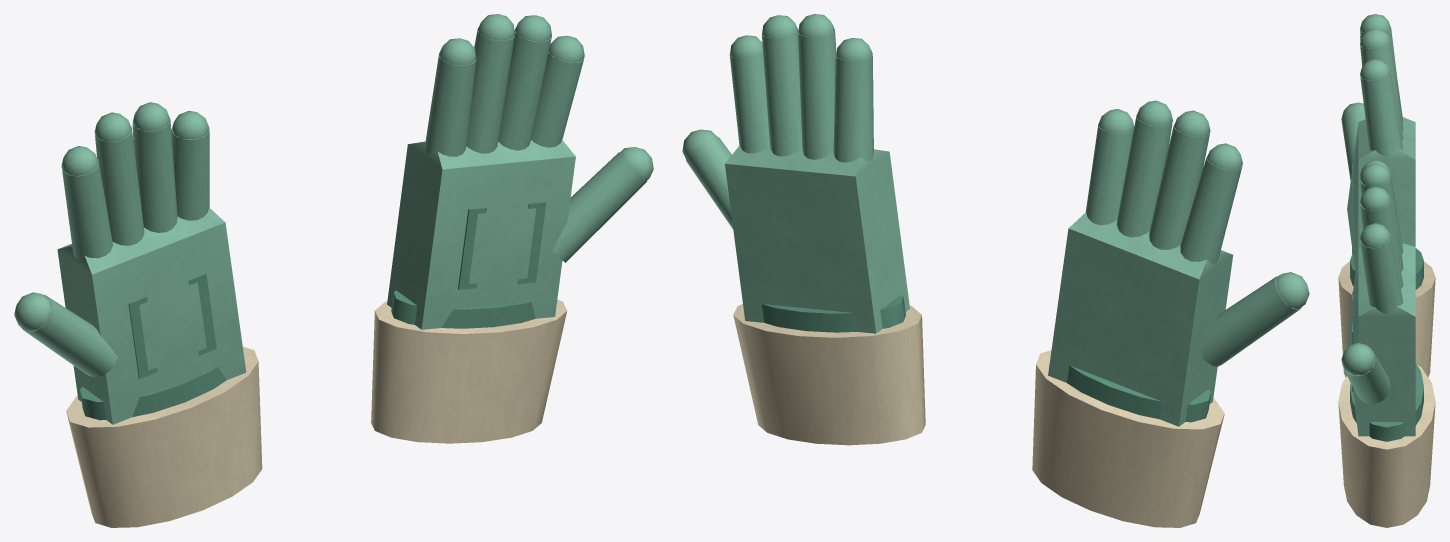
File: guantes.gltf
3 views of the same model, side by side, from view 1: azimuth 30°, elevation 25°; view 2: azimuth 150°, elevation 25°; view 3: azimuth 270°, elevation 25° (orthographic). The views are drawn at different scales.
Visible parts, largest first — view 1: guante_der, guante_izq; view 2: guante_izq, guante_der; view 3: guante_der, guante_izq.
Part boxes in pixels (left/top/right/bottom): guante_der: left=371, top=14, right=653, bottom=443; guante_izq: left=14, top=102, right=262, bottom=527; guante_izq: left=1032, top=100, right=1309, bottom=527; guante_der: left=682, top=14, right=925, bottom=445; guante_der: left=1338, top=160, right=1435, bottom=527; guante_izq: left=1338, top=14, right=1435, bottom=377.
Size of the model in its own units: 0.4232 by 0.2659 by 0.0682.
3 materials, 3 textured.
